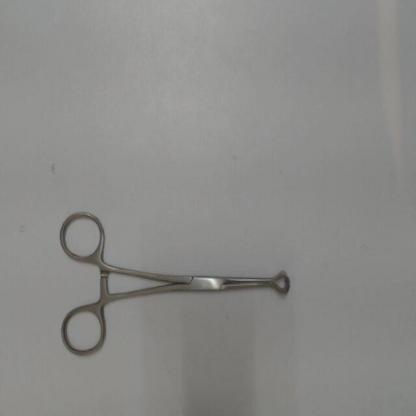Babcock Tissue Forceps: (56, 201, 294, 361)
